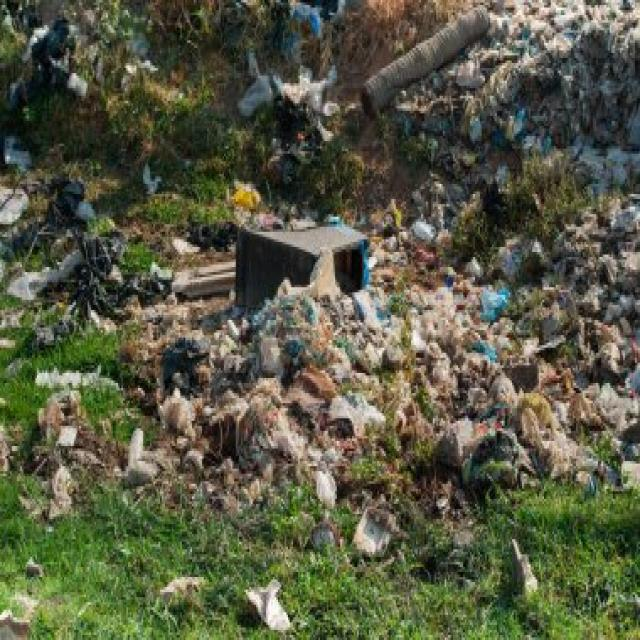garbage: (40, 0, 640, 571)
